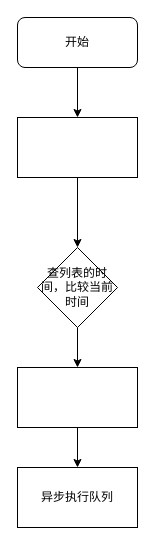
Image size: 155x545. Some labels were removed from this diagram. The centre of each missing label's shape, as x and y in pixels:
setInterval: point 77,147
时间到了入执行队列: point 77,397
